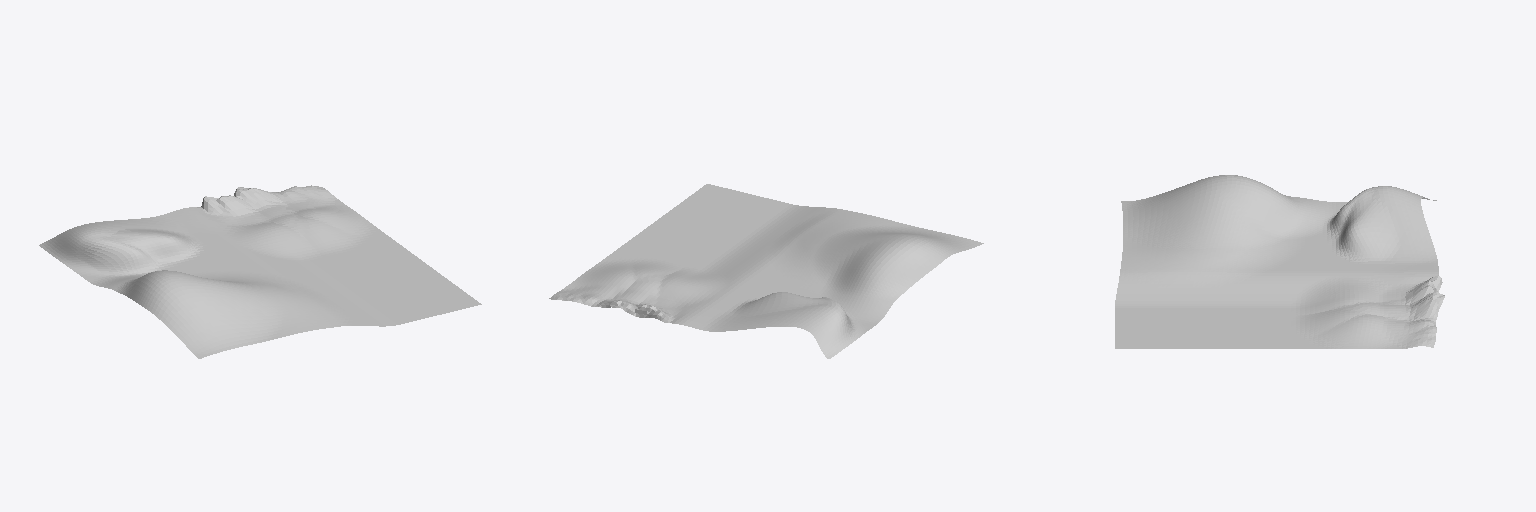
The model's file is kopecek.obj.
3 views of the same model, side by side, from view 1: azimuth 30°, elevation 25°; view 2: azimuth 150°, elevation 25°; view 3: azimuth 270°, elevation 25° (orthographic).
Parts seen in each view (by area): view 1: Grid; view 2: Grid; view 3: Grid.
Part boxes in pixels (bbox=[...]): Grid: bbox=[39, 185, 481, 358]; Grid: bbox=[549, 184, 983, 358]; Grid: bbox=[1115, 175, 1444, 348].
Bounding box in the file's own units: 35.82 × 5.5 × 35.75.